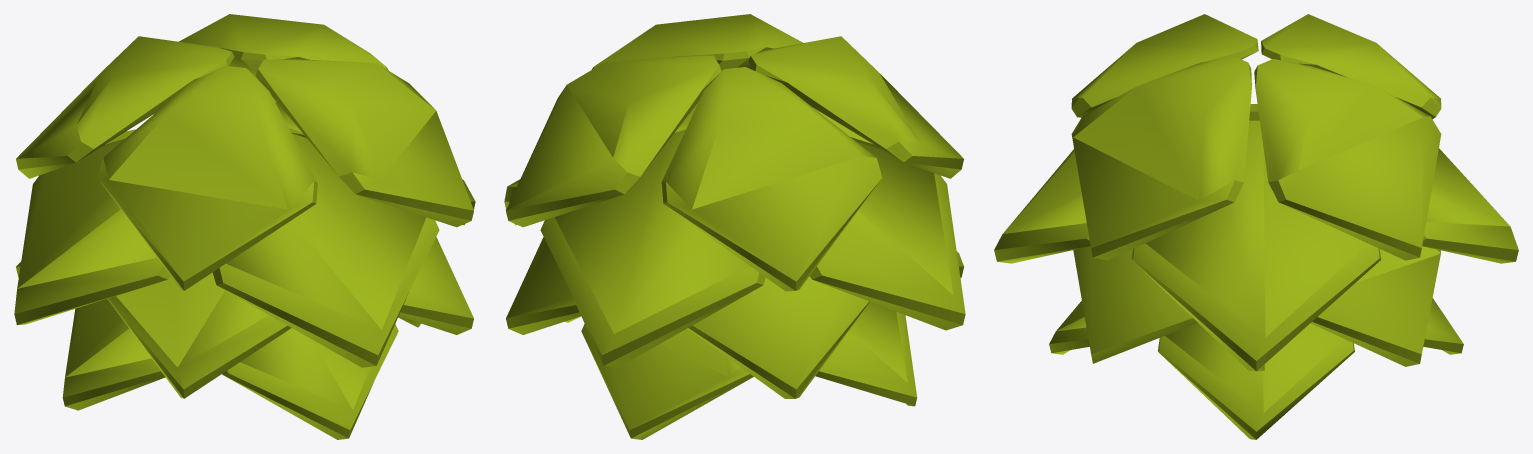
The model's file is flowerbush.glb.
The picture shows the model from 3 angles, left to right: view 1: azimuth 30°, elevation 25°; view 2: azimuth 150°, elevation 25°; view 3: azimuth 270°, elevation 25°; orthographic projection.
Visible parts, largest first — view 1: Bush; view 2: Bush; view 3: Bush.
Part boxes in pixels (bbox=[...]): Bush: bbox=[14, 14, 475, 439]; Bush: bbox=[504, 14, 965, 439]; Bush: bbox=[994, 14, 1518, 439].
Size of the model in its own units: 3.09 by 1.96 by 3.09.
1 material, 1 textured.
